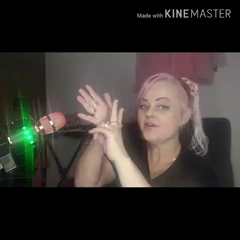V: (73, 82, 128, 156)
